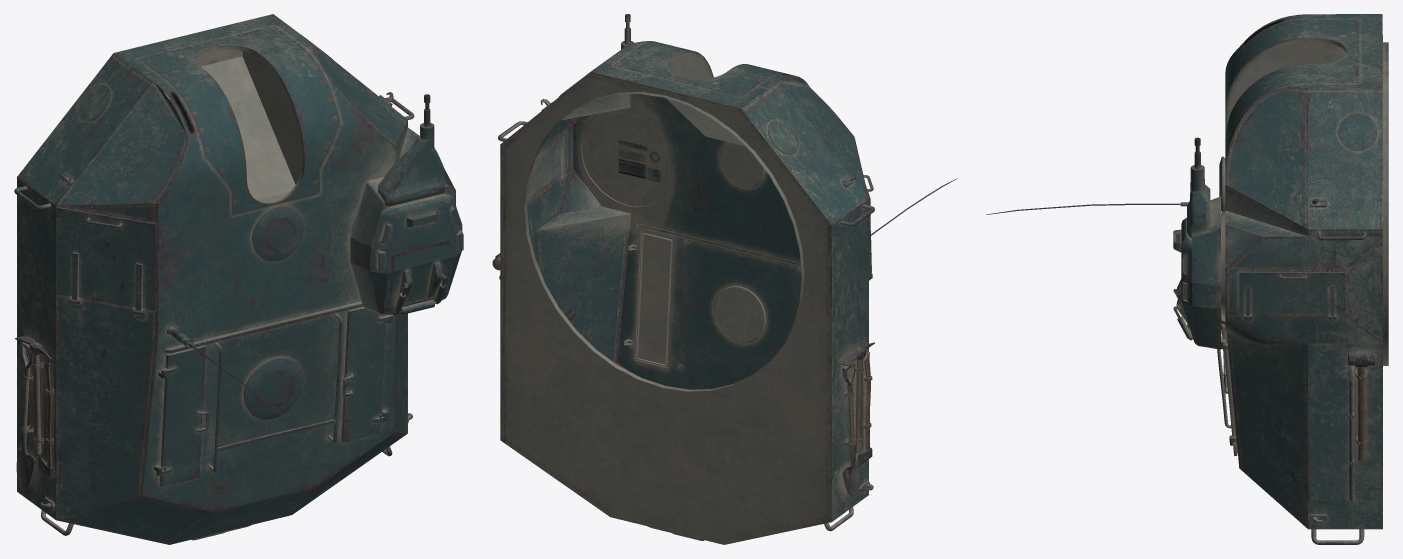
Rendered from Turret_01.glb.
3 views of the same model, side by side, from view 1: azimuth 30°, elevation 25°; view 2: azimuth 150°, elevation 25°; view 3: azimuth 270°, elevation 25° (orthographic). The views are drawn at different scales.
Parts seen in each view (by area): view 1: set_0_group_0; view 2: set_0_group_0; view 3: set_0_group_0.
Boxes of the visible parts, <box> form: set_0_group_0: <box>14,14,463,544</box>; set_0_group_0: <box>492,14,957,544</box>; set_0_group_0: <box>986,14,1388,544</box>.
Bounding box in the file's own units: 3.22 × 3.84 × 3.09.
Materials: 1 (1 with a texture image).
